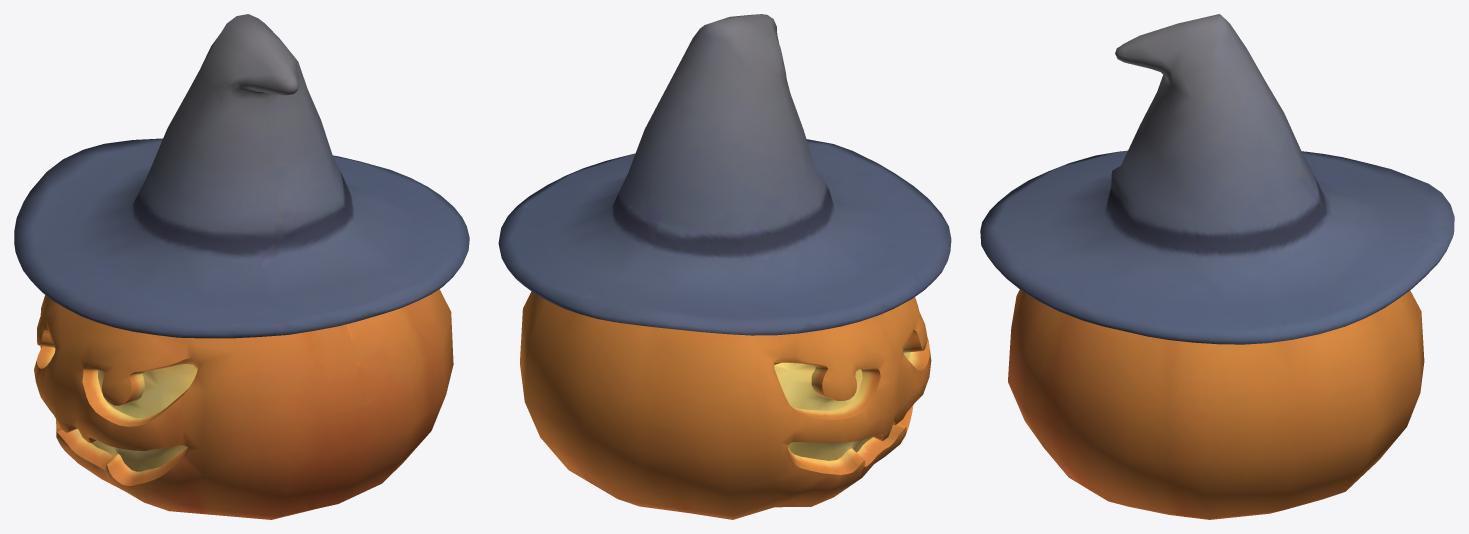
Rendered from pref_beach_WSJ_decorate_pumpkin04_lv3.fbx.
3 views of the same model, side by side, from view 1: azimuth 30°, elevation 25°; view 2: azimuth 150°, elevation 25°; view 3: azimuth 270°, elevation 25° (orthographic).
Parts seen in each view (by area): view 1: pref_beach_WSJ_decorate_pumpkin04_lv3; view 2: pref_beach_WSJ_decorate_pumpkin04_lv3; view 3: pref_beach_WSJ_decorate_pumpkin04_lv3.
Part boxes in pixels (x1,y1,x2,y2): pref_beach_WSJ_decorate_pumpkin04_lv3: (14, 14, 469, 519); pref_beach_WSJ_decorate_pumpkin04_lv3: (498, 14, 951, 519); pref_beach_WSJ_decorate_pumpkin04_lv3: (980, 14, 1454, 519).
Bounding box in the file's own units: 2.03 × 2.22 × 2.1.
